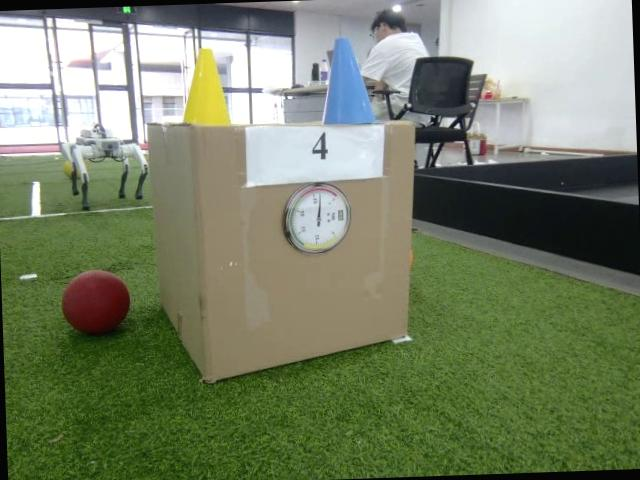4: (310, 132, 328, 160)
Dashboard: (284, 182, 350, 257)
blue_barrel: (318, 35, 376, 126)
red_ball: (58, 268, 132, 336)
ssi: (336, 208, 344, 222)
yellow_barrel: (180, 47, 232, 128)
